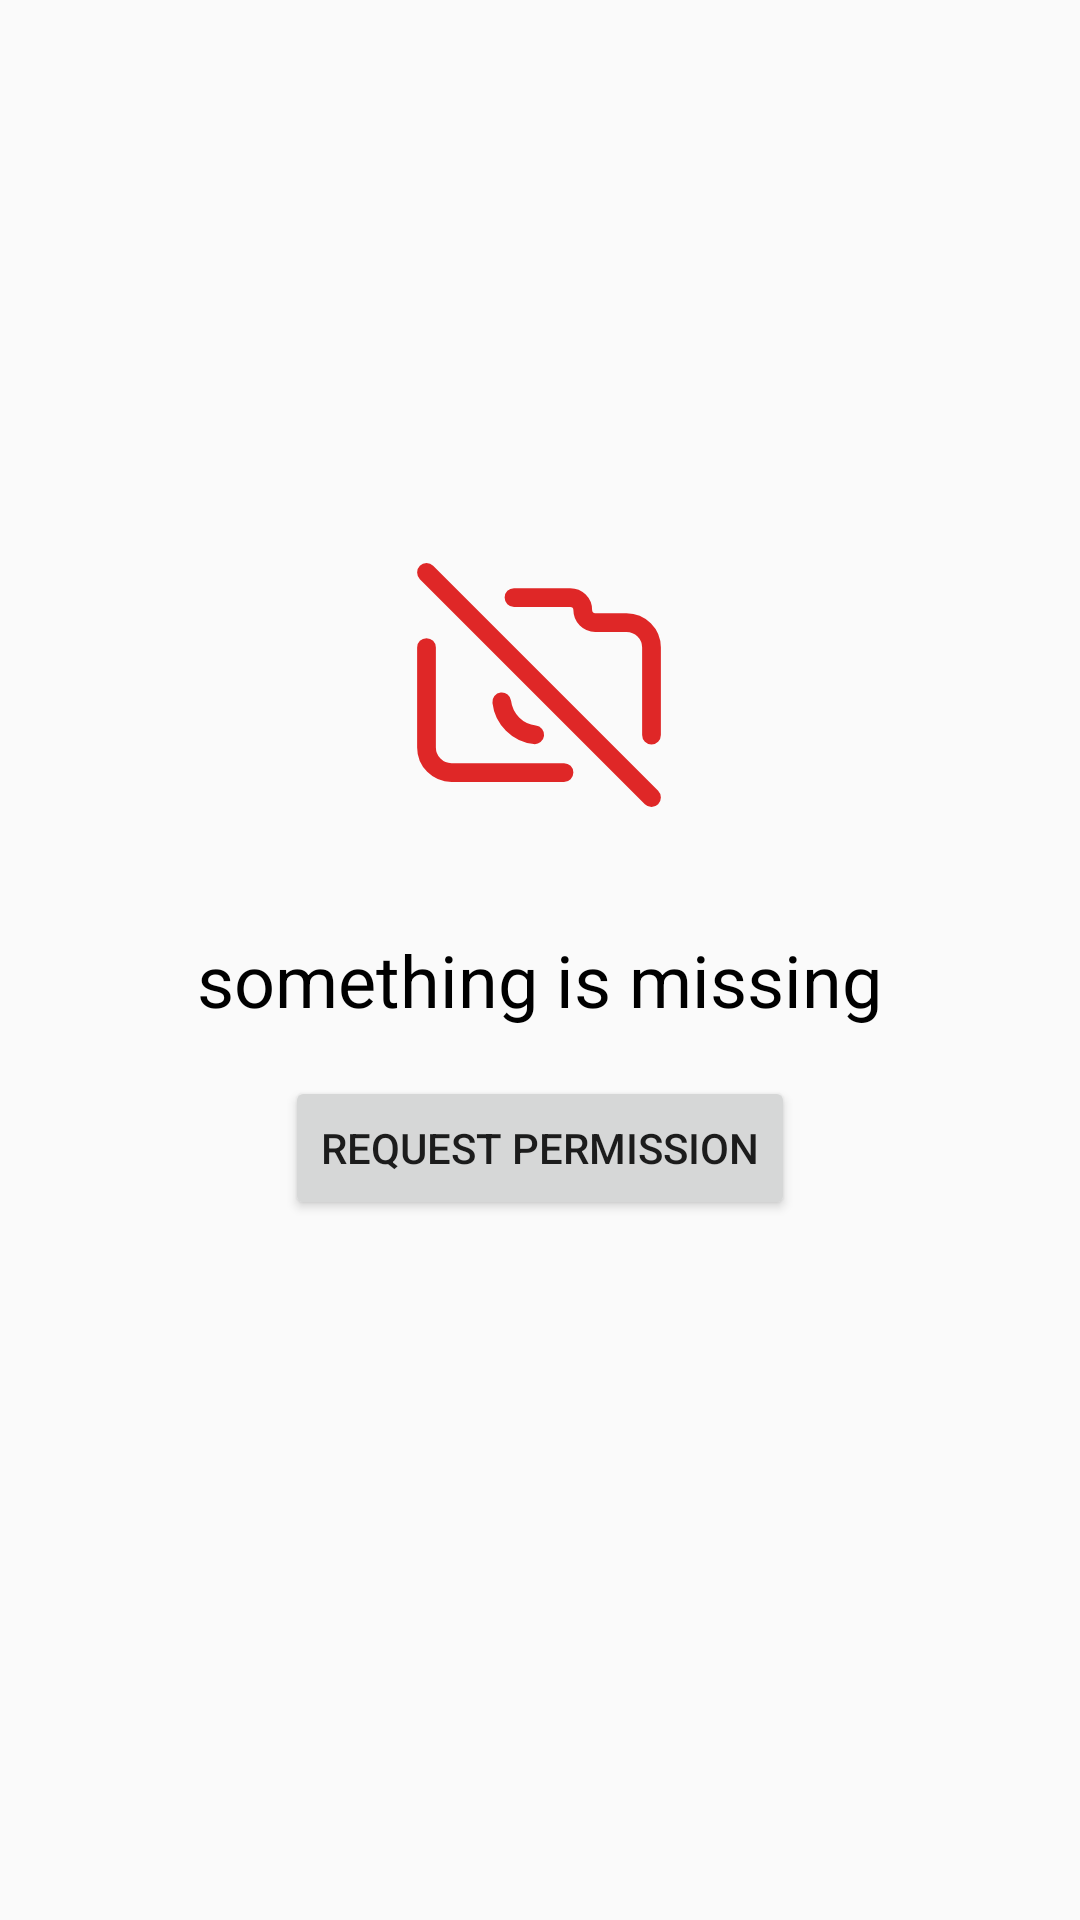

Icon click points for this 1080×1920 phone screenshot, format (x=x, y=y):
camera: (x=539, y=685)
